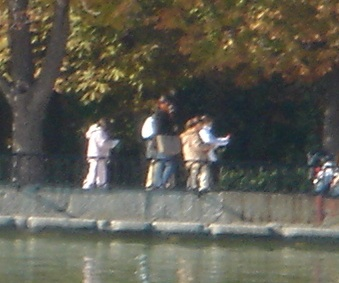person: (145, 93, 182, 192)
